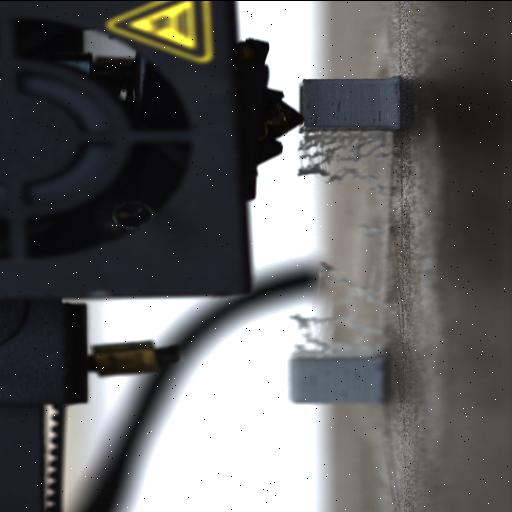stringing: (298, 130, 396, 228), (290, 257, 390, 353)
